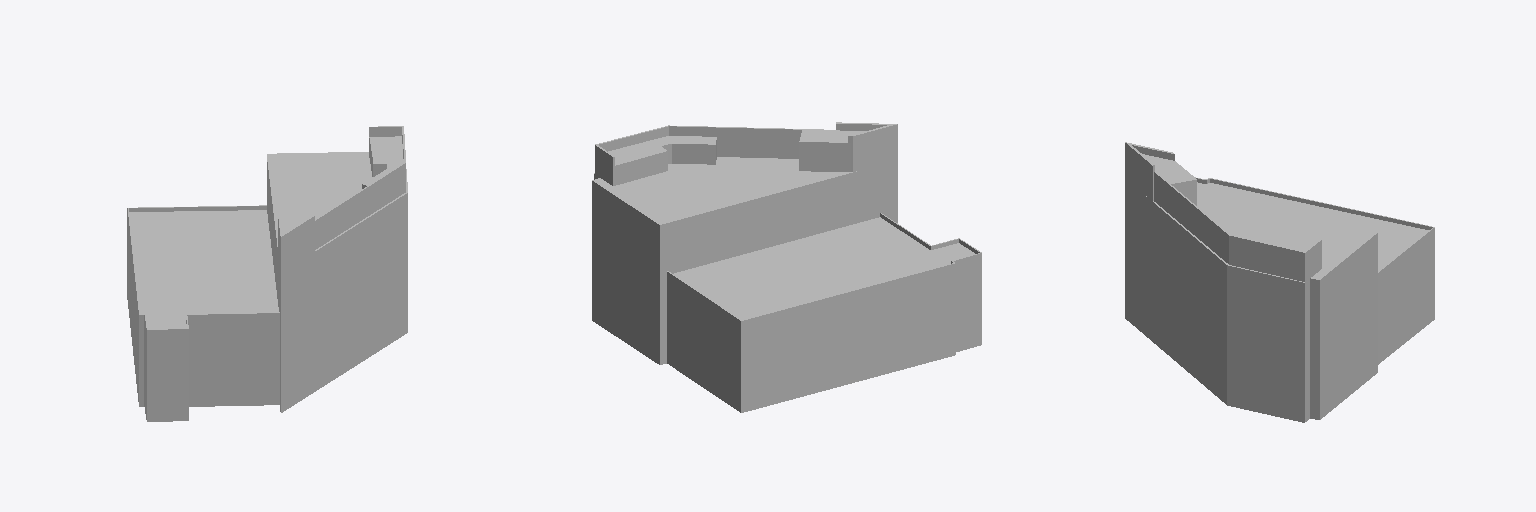
File: lab_8.obj
3 views of the same model, side by side, from view 1: azimuth 30°, elevation 25°; view 2: azimuth 150°, elevation 25°; view 3: azimuth 270°, elevation 25° (orthographic).
Parts seen in each view (by area): view 1: object_1; view 2: object_1; view 3: object_1.
Boxes of the visible parts, <box> form: object_1: <box>127,126,407,421</box>; object_1: <box>592,122,981,412</box>; object_1: <box>1125,142,1434,422</box>.
Size of the model in its own units: 254 by 132 by 210.